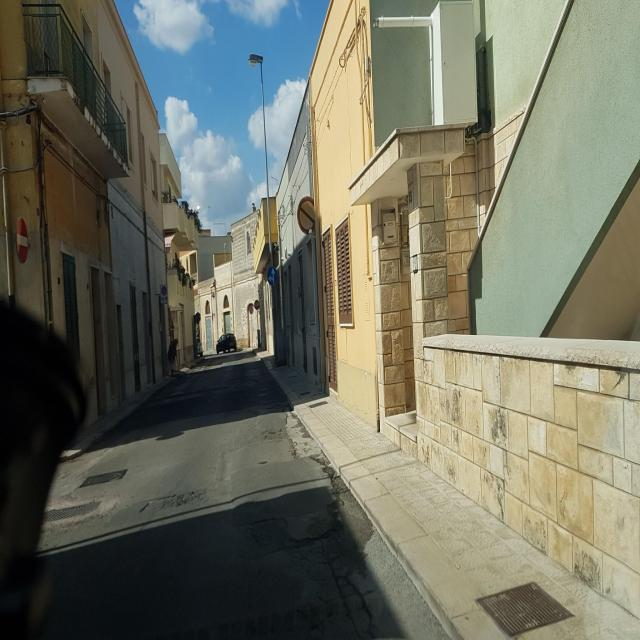forb_stopping: (297, 197, 321, 236)
